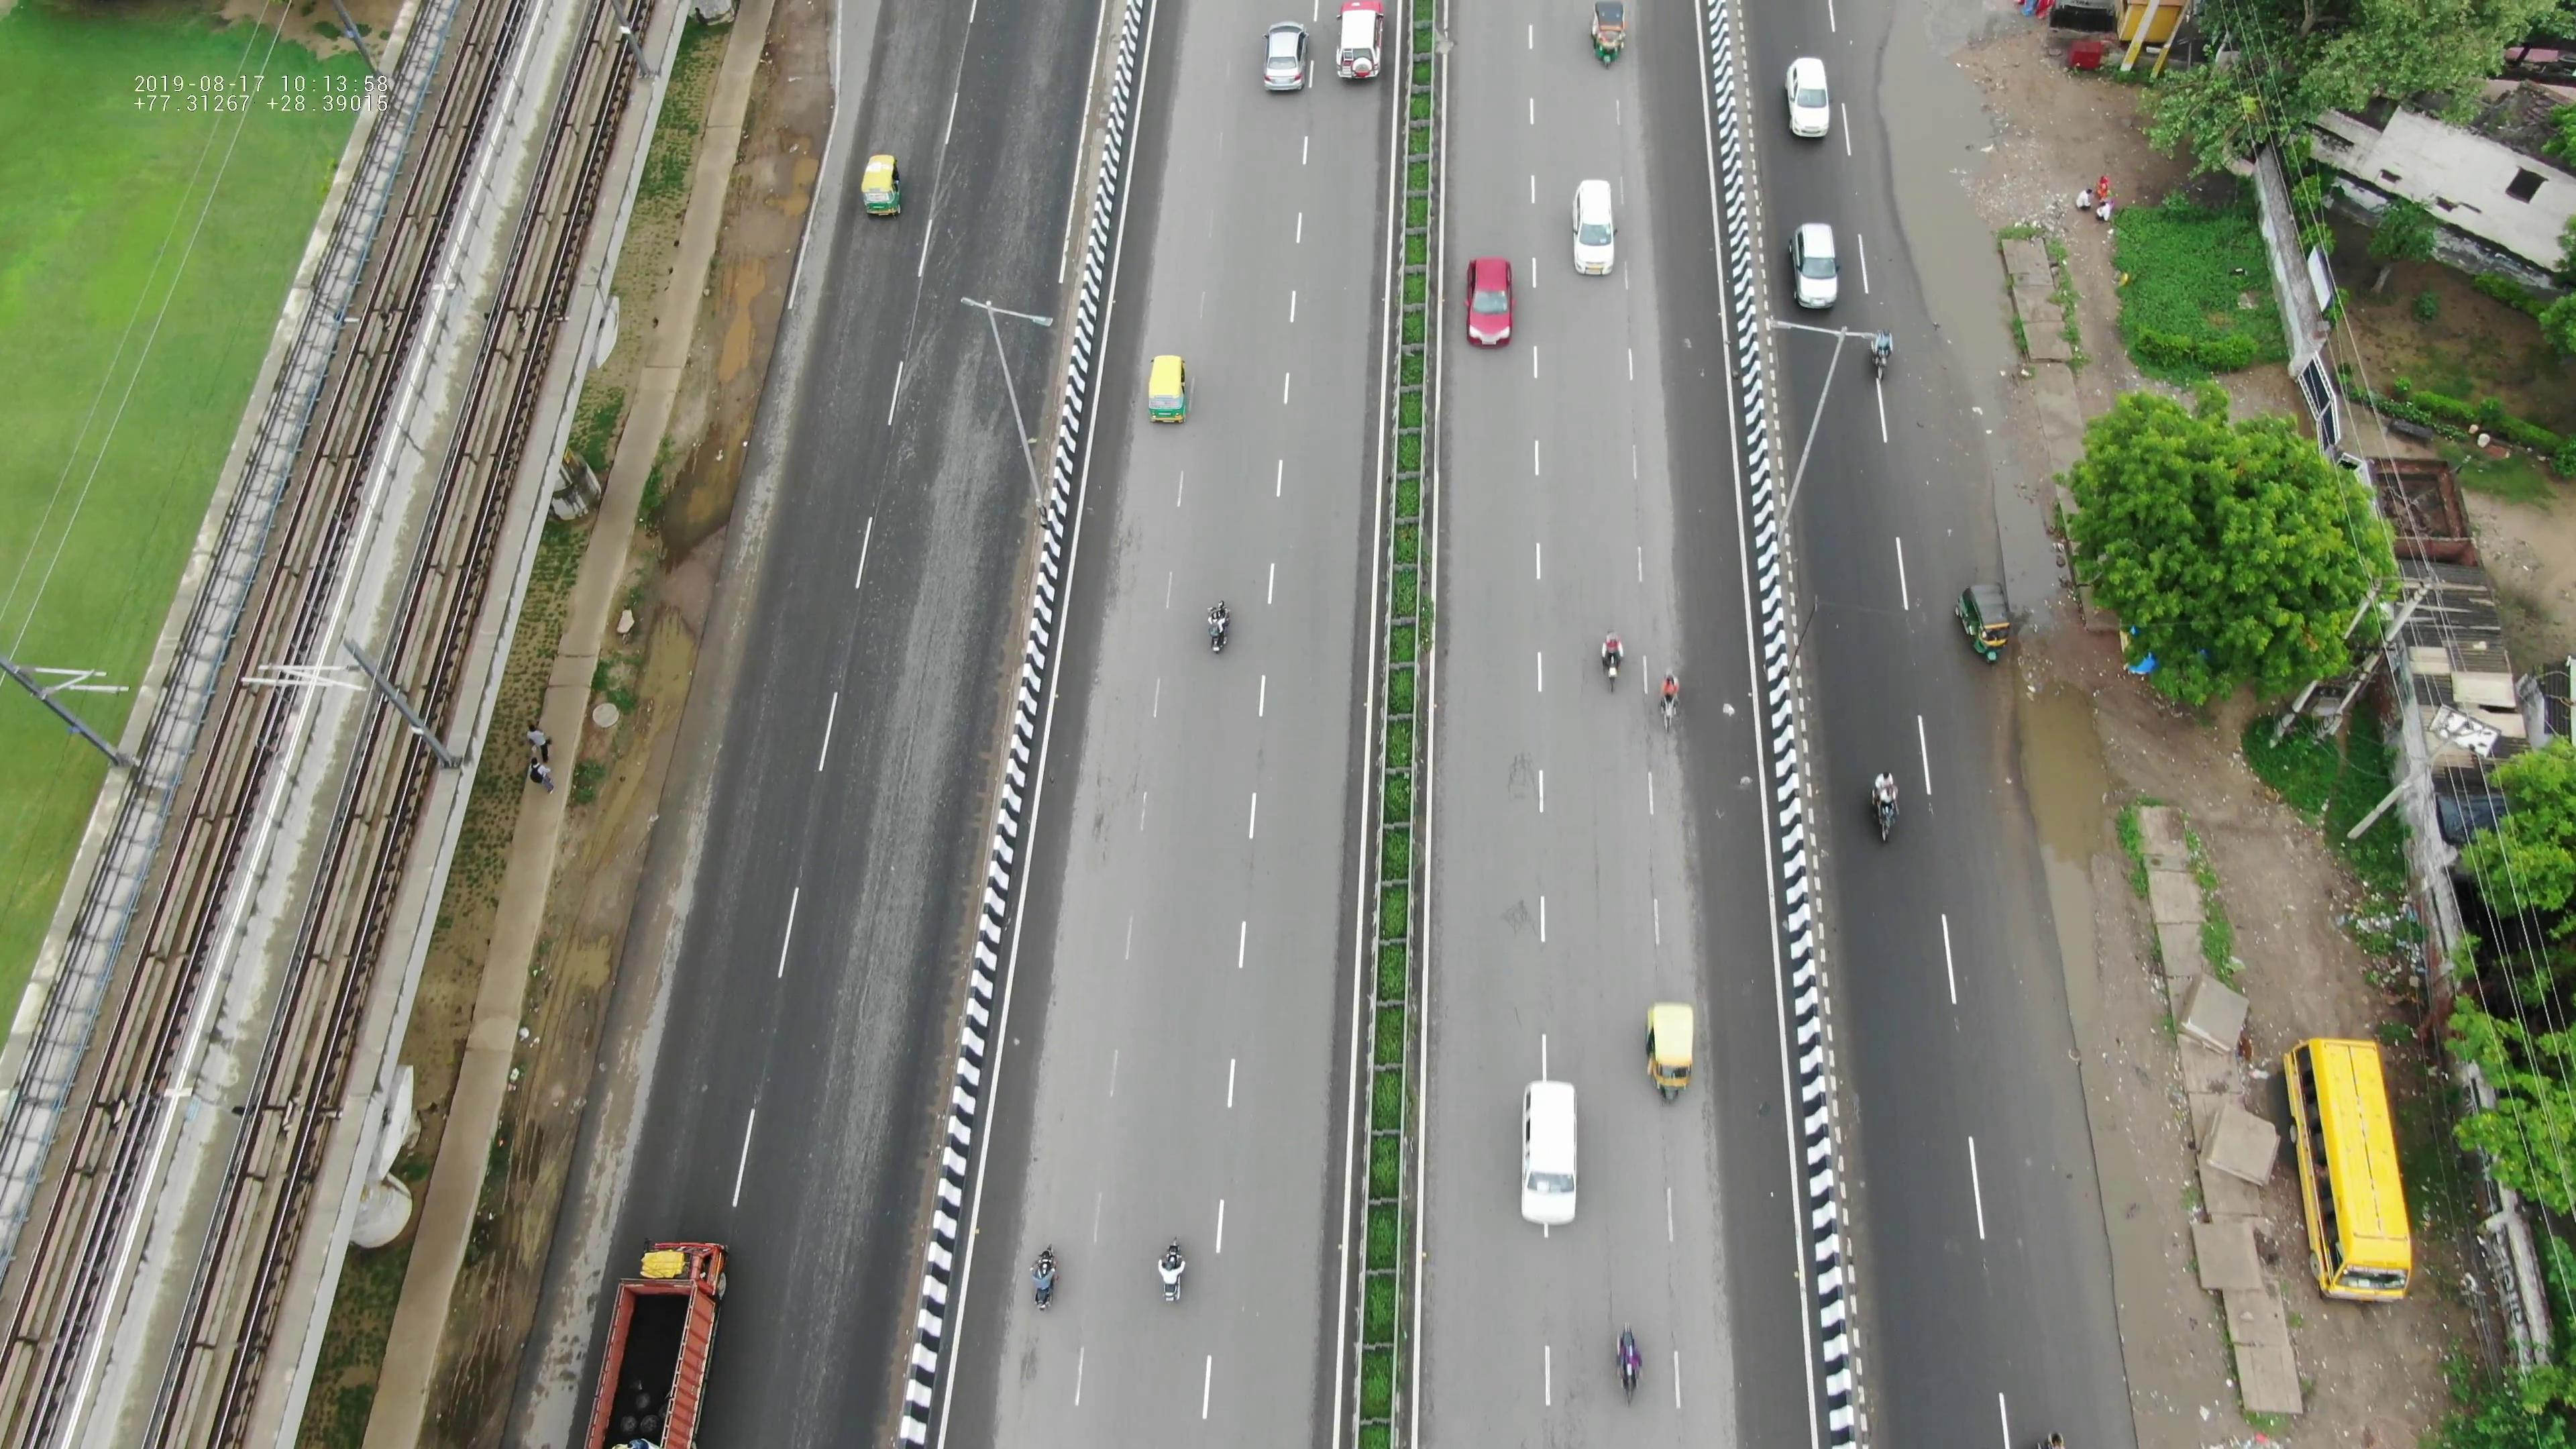Waterlogging: (1874, 25, 2003, 350), (2001, 679, 2127, 1005)
